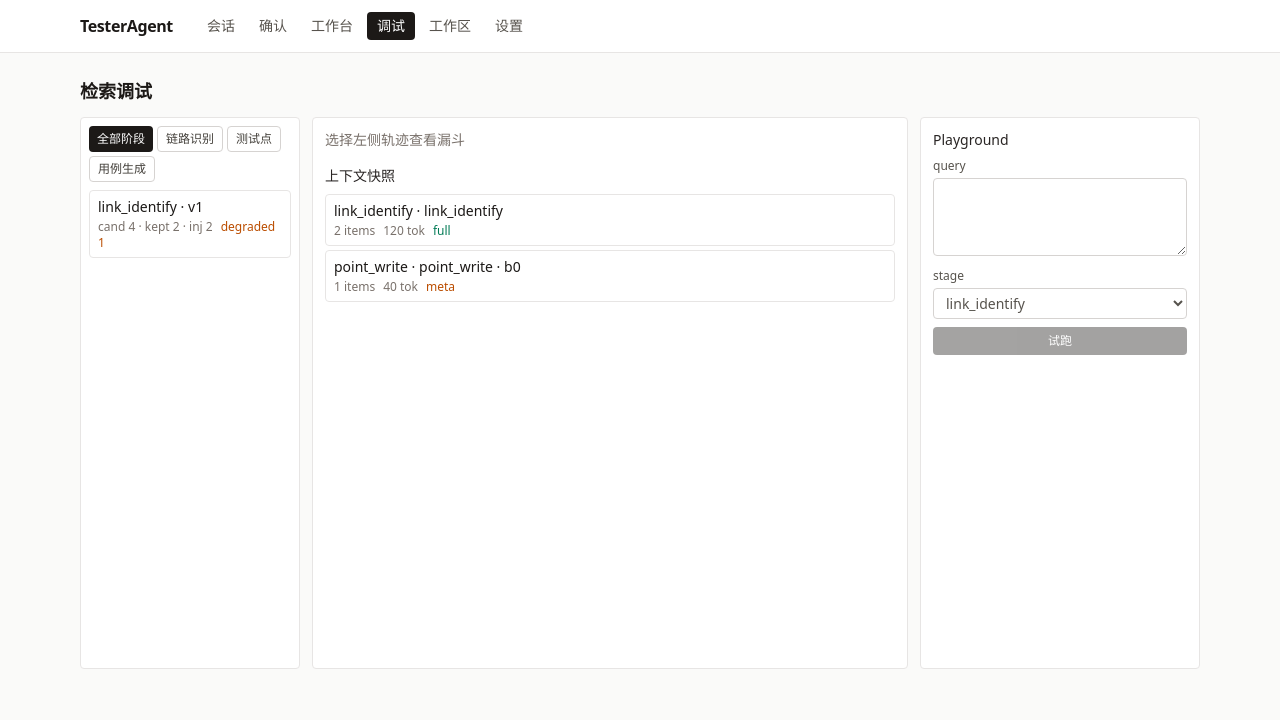
WP-F4 RetrievalDebugPage › degraded 非空显示黄标
Click the button with test id "trace-item-trace-1": (190,224) top-left (89, 190), bottom-right (291, 258)
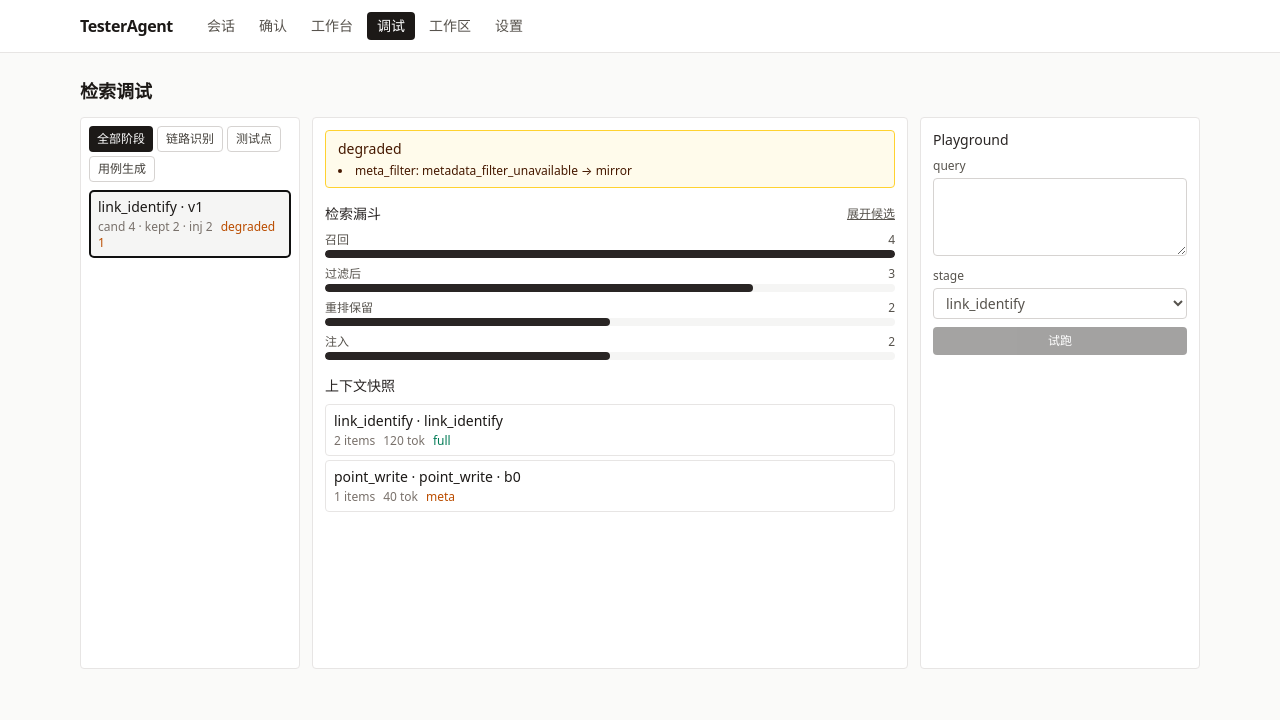
Now the message with test id "degraded-banner" shows "meta_filter", box top-left (355, 162), bottom-right (416, 179)
